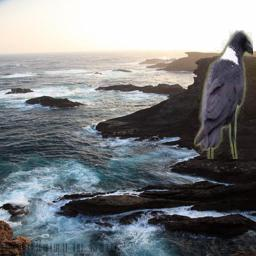Crow: (194, 30, 253, 159)
